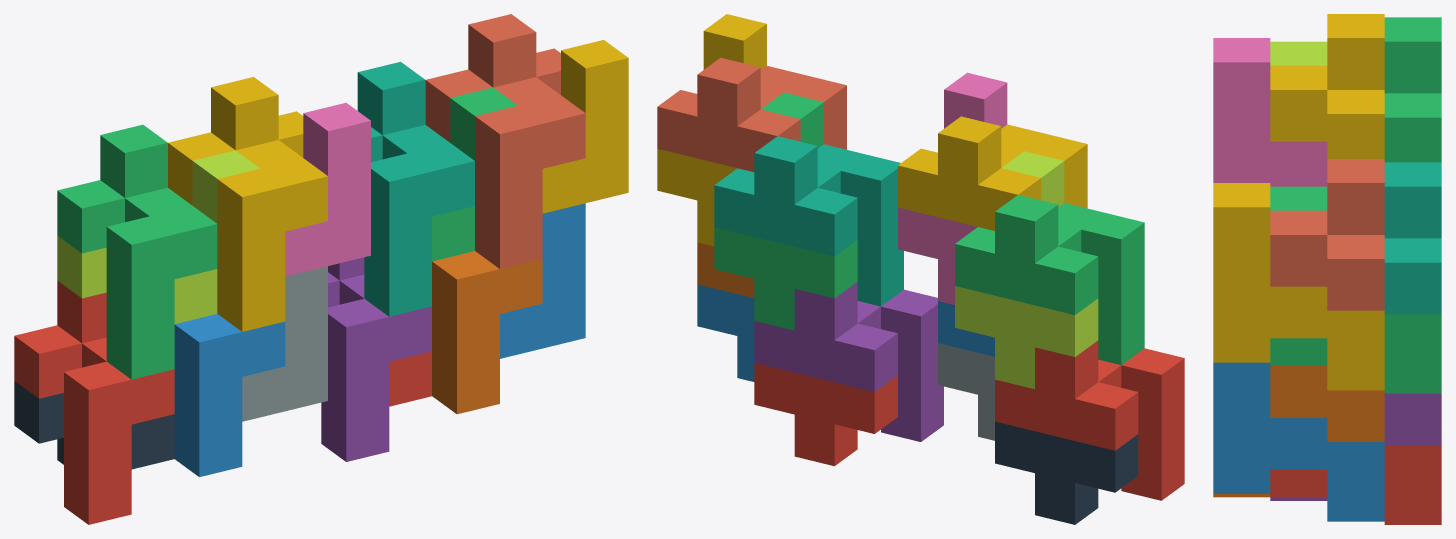
The model's file is tiling.obj.
3 renders of one model, left to right at view 1: azimuth 30°, elevation 25°; view 2: azimuth 150°, elevation 25°; view 3: azimuth 270°, elevation 25°, orthographic. The views are drawn at different scales.
Visible parts, largest first — view 1: copy_1_domain_3, copy_1_domain_4, copy_1_domain_8, copy_1_domain_1, copy_1_domain_7, copy_1_domain_5, copy_1_domain_2, copy_1_domain_6, copy_2_domain_8, copy_2_domain_4, copy_2_domain_6, copy_2_domain_2 (+4 smaller); view 2: copy_1_domain_3, copy_1_domain_7, copy_1_domain_1, copy_1_domain_5, copy_1_domain_4, copy_1_domain_8, copy_2_domain_7, copy_2_domain_3, copy_2_domain_5, copy_2_domain_1, copy_2_domain_8, copy_2_domain_4 (+4 smaller); view 3: copy_2_domain_8, copy_2_domain_6, copy_1_domain_8, copy_1_domain_4, copy_2_domain_4, copy_1_domain_7, copy_1_domain_3, copy_2_domain_7, copy_2_domain_5, copy_1_domain_6, copy_1_domain_5, copy_2_domain_3.
Boxes of the visible parts, bbox=[...] form: copy_1_domain_3: bbox=[57, 124, 217, 379]; copy_1_domain_4: bbox=[168, 77, 327, 331]; copy_1_domain_8: bbox=[425, 14, 585, 268]; copy_1_domain_1: bbox=[14, 280, 174, 524]; copy_1_domain_7: bbox=[357, 61, 474, 316]; copy_1_domain_5: bbox=[321, 257, 431, 461]; copy_1_domain_2: bbox=[174, 314, 285, 476]; copy_1_domain_6: bbox=[432, 251, 542, 414]; copy_2_domain_8: bbox=[542, 40, 628, 213]; copy_2_domain_4: bbox=[285, 102, 370, 276]; copy_2_domain_6: bbox=[500, 203, 585, 358]; copy_2_domain_2: bbox=[242, 266, 327, 421]; copy_1_domain_3: bbox=[955, 195, 1144, 365]; copy_1_domain_7: bbox=[714, 136, 903, 306]; copy_1_domain_1: bbox=[995, 340, 1184, 500]; copy_1_domain_5: bbox=[754, 282, 943, 441]; copy_1_domain_4: bbox=[898, 116, 1087, 230]; copy_1_domain_8: bbox=[657, 57, 846, 172]; copy_2_domain_7: bbox=[714, 92, 857, 330]; copy_2_domain_3: bbox=[955, 151, 1098, 389]; copy_2_domain_5: bbox=[754, 363, 897, 466]; copy_2_domain_1: bbox=[995, 421, 1138, 524]; copy_2_domain_8: bbox=[657, 14, 766, 246]; copy_2_domain_4: bbox=[898, 72, 1007, 304]; copy_2_domain_8: bbox=[1213, 183, 1384, 390]; copy_2_domain_6: bbox=[1213, 362, 1384, 521]; copy_1_domain_8: bbox=[1270, 159, 1384, 310]; copy_1_domain_4: bbox=[1270, 14, 1384, 158]; copy_2_domain_4: bbox=[1213, 38, 1327, 186]; copy_1_domain_7: bbox=[1384, 162, 1441, 314]; copy_1_domain_3: bbox=[1384, 17, 1441, 162]; copy_2_domain_7: bbox=[1270, 186, 1441, 393]; copy_2_domain_5: bbox=[1270, 445, 1441, 524]; copy_1_domain_6: bbox=[1213, 366, 1384, 497]; copy_1_domain_5: bbox=[1270, 393, 1441, 500]; copy_2_domain_3: bbox=[1270, 41, 1327, 65].
Size of the model in its own units: 12 by 8 by 4.
